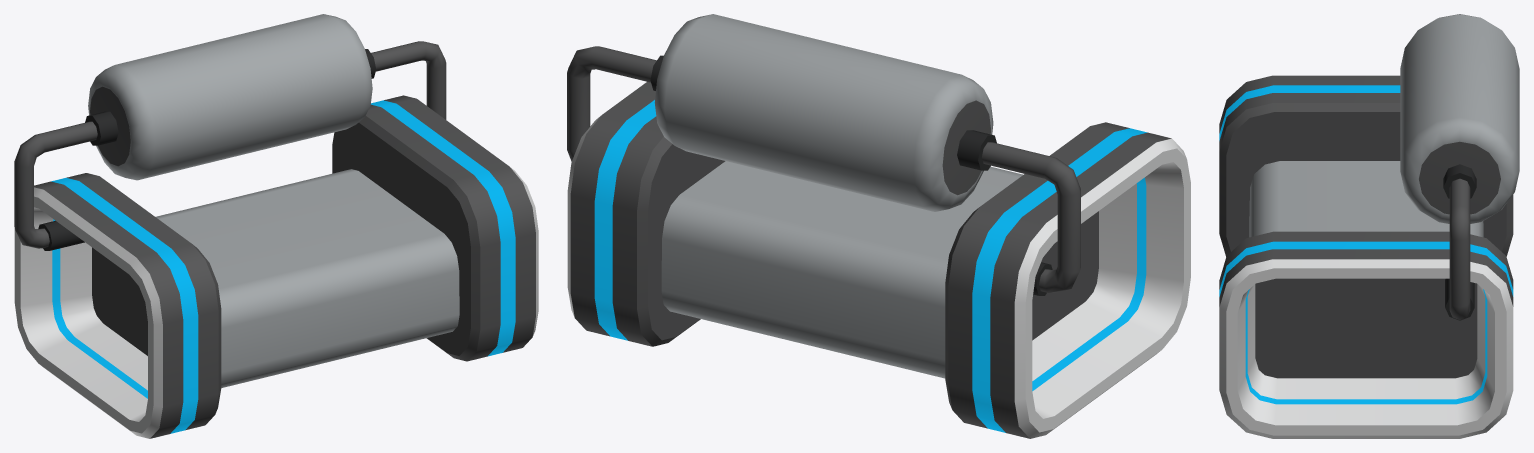
Rendered from Mini_sofa_006.glb.
3 views of the same model, side by side, from view 1: azimuth 30°, elevation 25°; view 2: azimuth 150°, elevation 25°; view 3: azimuth 270°, elevation 25° (orthographic). The views are drawn at different scales.
Visible parts, largest first — view 1: Mini_sofa_006; view 2: Mini_sofa_006; view 3: Mini_sofa_006.
Boxes of the visible parts, x1=… form: Mini_sofa_006: x1=14, y1=14, x2=538, y2=438; Mini_sofa_006: x1=567, y1=14, x2=1190, y2=438; Mini_sofa_006: x1=1219, y1=14, x2=1519, y2=438.
Bounding box in the file's own units: 1.5 × 0.9289 × 0.8985.
2 materials, 2 textured.
